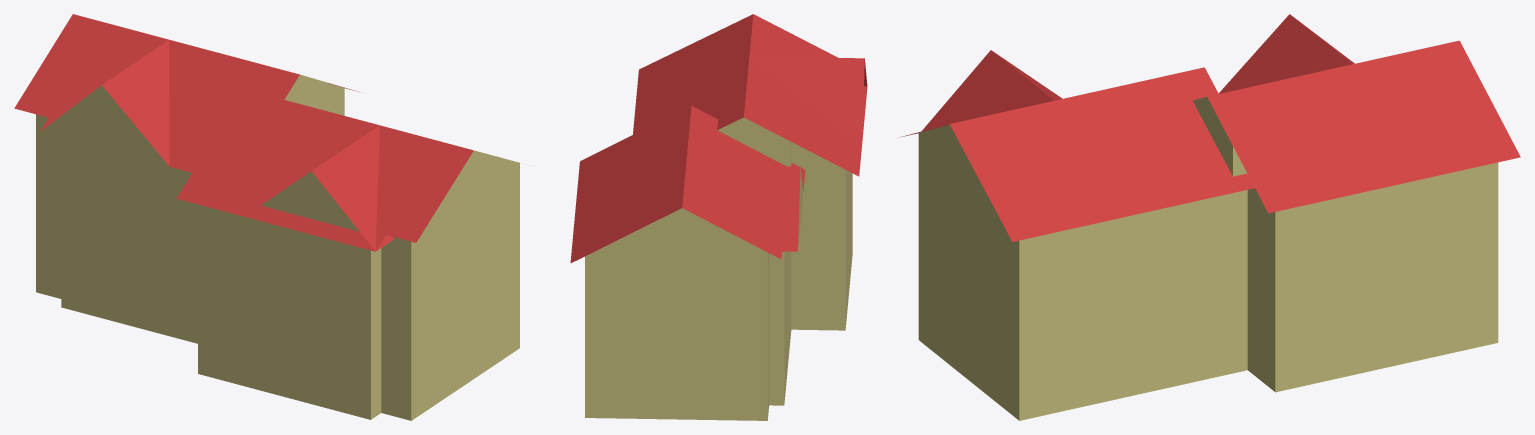
3 renders of one model, left to right at view 1: azimuth 30°, elevation 25°; view 2: azimuth 150°, elevation 25°; view 3: azimuth 270°, elevation 25°, orthographic. The views are drawn at different scales.
Size of the model in its own units: 25.24 by 37.51 by 16.96.
